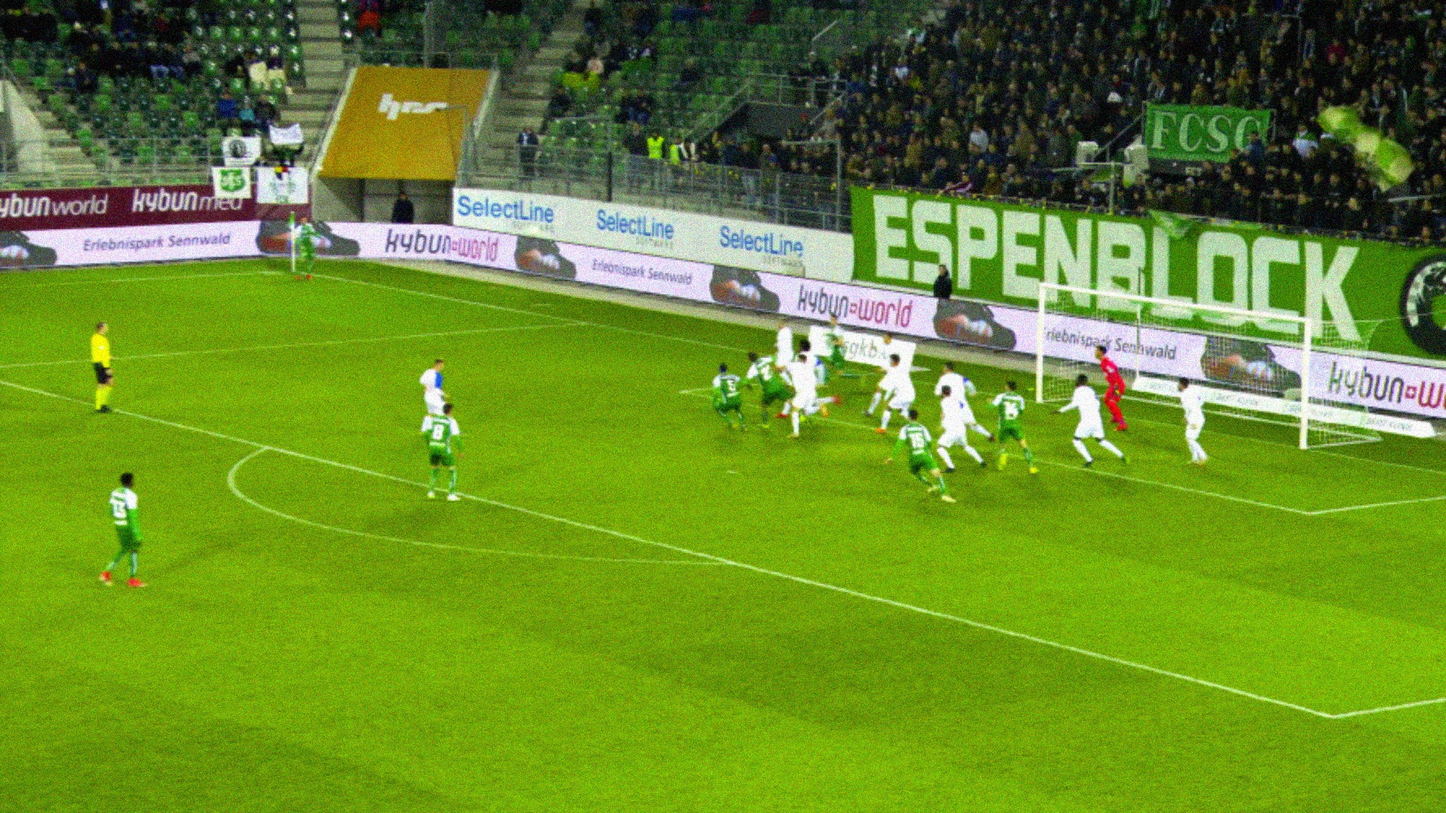ball: (527, 226, 540, 235)
goalkeeper: (1094, 344, 1127, 431)
player: (883, 405, 953, 503), (1054, 370, 1124, 467), (101, 471, 152, 587), (981, 381, 1033, 475), (937, 360, 987, 450), (793, 338, 845, 422), (738, 349, 793, 428), (425, 401, 465, 501), (927, 381, 970, 472), (866, 333, 913, 414), (1174, 374, 1212, 466), (707, 361, 752, 434), (878, 354, 918, 432), (825, 315, 865, 390), (789, 355, 824, 437), (422, 357, 455, 438), (776, 317, 811, 392), (294, 217, 327, 282)
referee: (90, 321, 123, 413)
